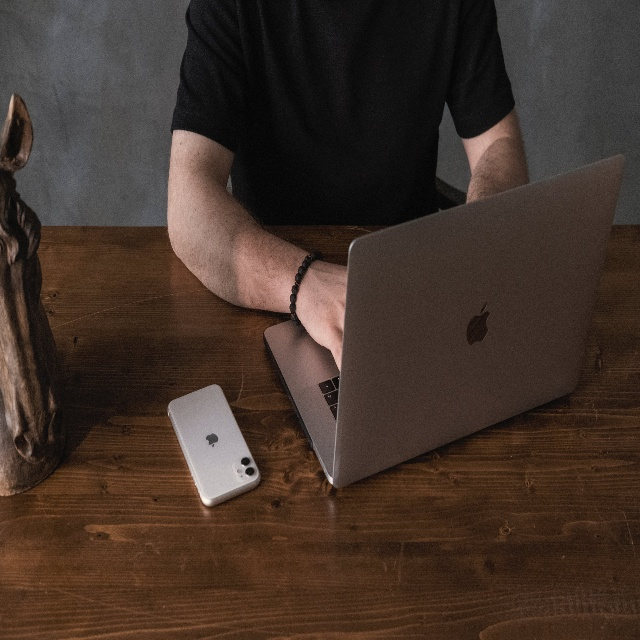Sin_guantes: (299, 254, 349, 370)
